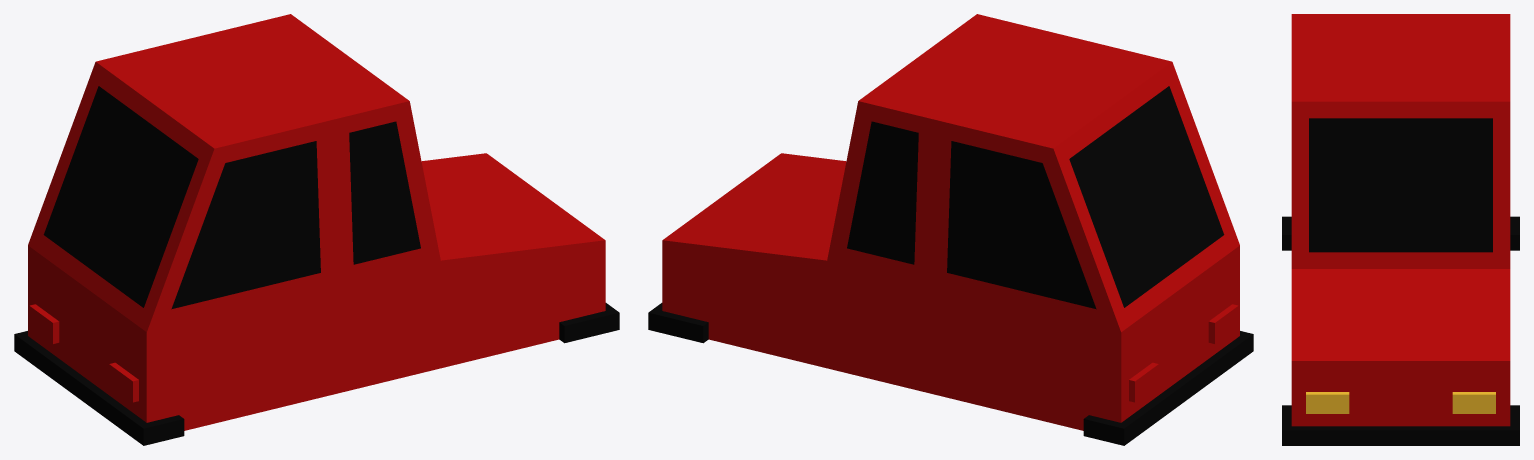
File: CityCar_Kombi_04.fbx
3 renders of one model, left to right at view 1: azimuth 30°, elevation 25°; view 2: azimuth 150°, elevation 25°; view 3: azimuth 270°, elevation 25°, orthographic. The views are drawn at different scales.
Parts seen in each view (by area): view 1: CityCar_Kombi_04; view 2: CityCar_Kombi_04; view 3: CityCar_Kombi_04.
Boxes of the visible parts, x1,y1,x2,y2 form: CityCar_Kombi_04: [14, 14, 619, 445]; CityCar_Kombi_04: [648, 14, 1253, 445]; CityCar_Kombi_04: [1282, 14, 1519, 445].
Size of the model in its own units: 0.4902 by 0.2706 by 0.2307.
